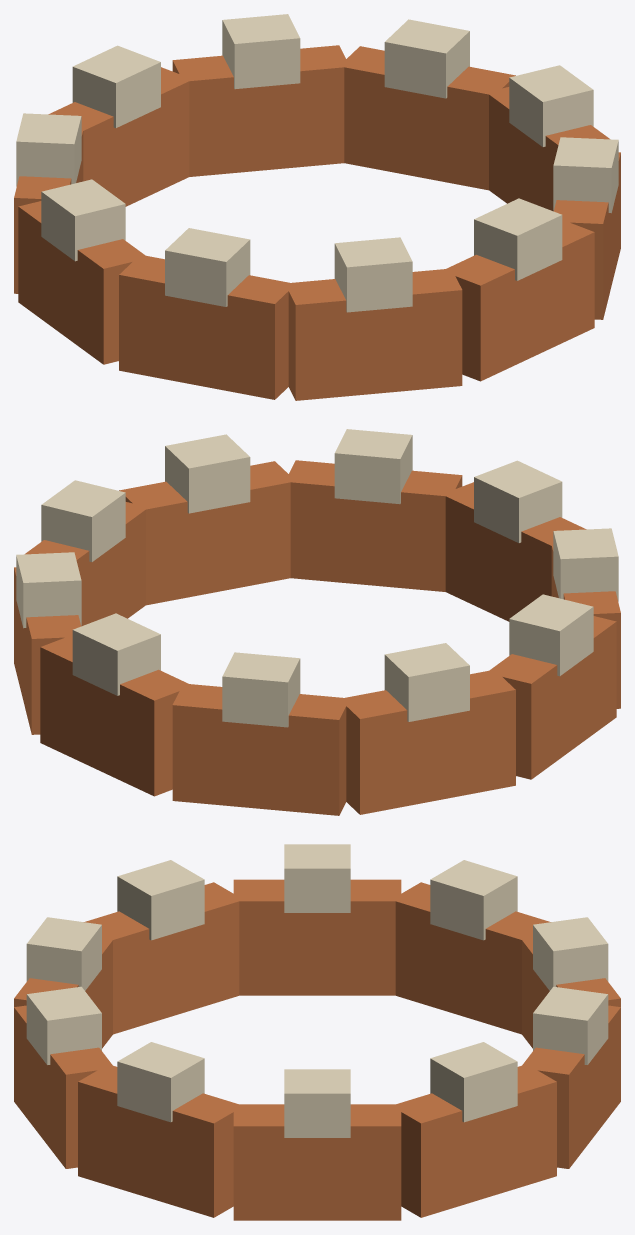
File: city-wall.glb
The picture shows the model from 3 angles, top to bottom: view 1: azimuth 30°, elevation 25°; view 2: azimuth 150°, elevation 25°; view 3: azimuth 270°, elevation 25°; orthographic projection.
Parts seen in each view (by area): view 1: city-wall, city-wall.001; view 2: city-wall, city-wall.001; view 3: city-wall, city-wall.001.
Part boxes in pixels (left/top/right/bottom): city-wall: left=14, top=45, right=620, bottom=400; city-wall.001: left=16, top=14, right=618, bottom=312; city-wall: left=14, top=460, right=620, bottom=815; city-wall.001: left=16, top=429, right=618, bottom=727; city-wall: left=14, top=879, right=620, bottom=1220; city-wall.001: left=26, top=844, right=608, bottom=1137.
Bounding box in the file's own units: 0.481 × 0.1155 × 0.495.
